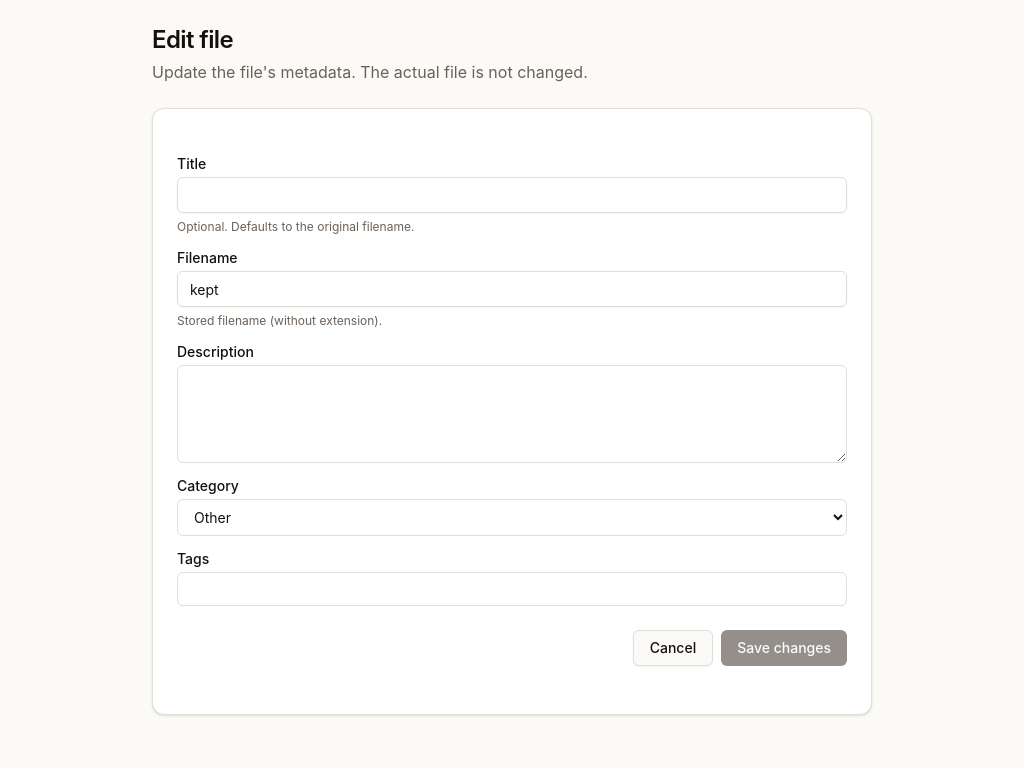
<FileEditPage /> › blocks save until a required field validation passes
This screenshot has width=1024, height=768.
Clear the field with test id "file-edit-path" at (512, 289), box [177, 271, 847, 307]
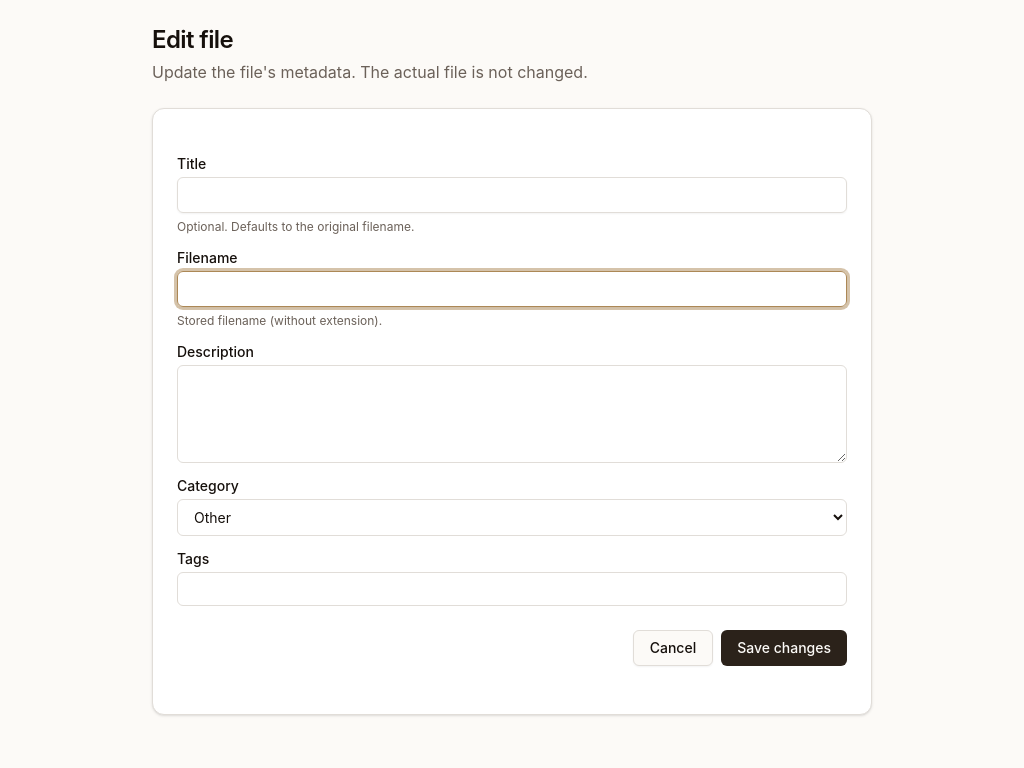
Click the button with test id "file-edit-save" at (784, 648), box [721, 630, 847, 666]
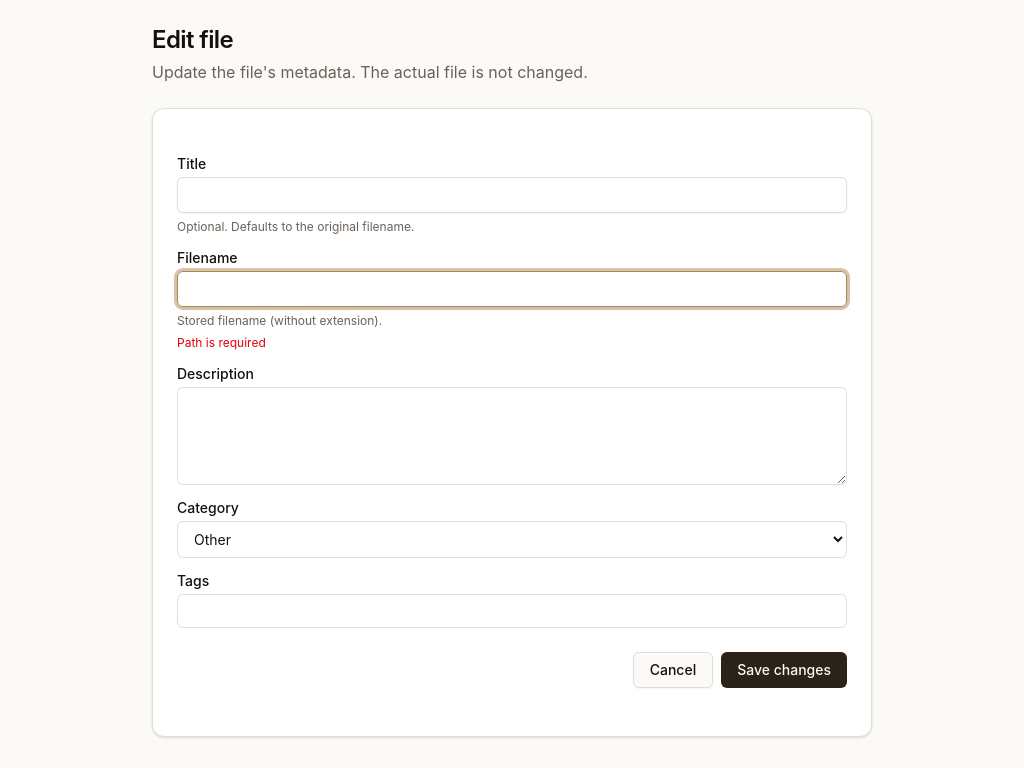
Expected: the text "Path is required" is shown, [177, 335, 266, 350]
